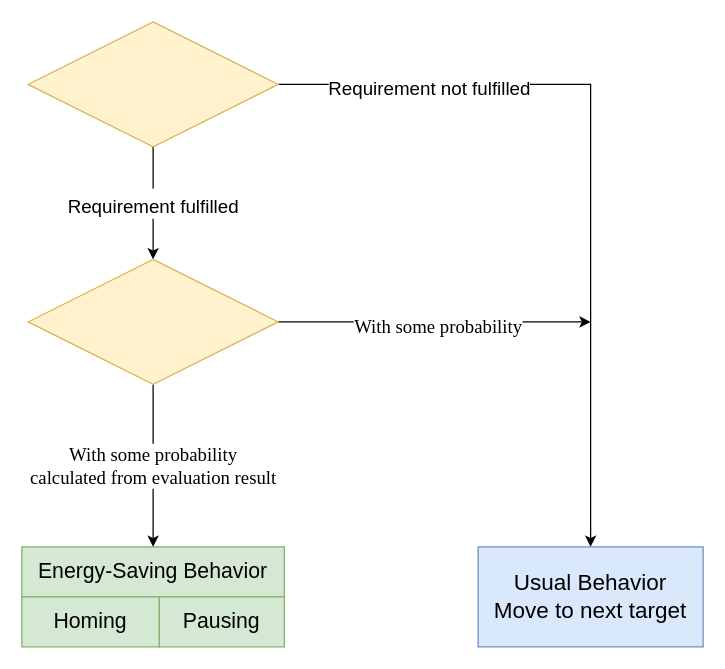
Some shapes in this 725 by 669 pixel diagram are drawn without their labels. Here are the shapes that lost their labels. From the top down, the centre of each, then its label:
point (152, 84): Fulfillment Estimation
point (152, 321): Self-Importance Evaluation
